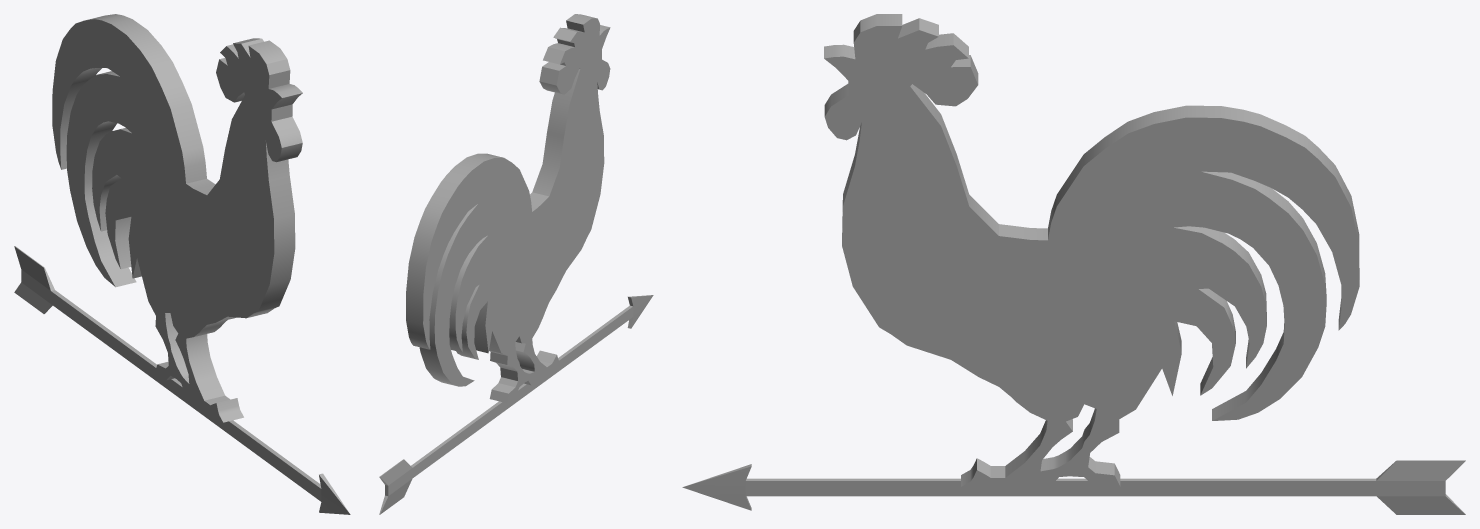
The model's file is gallo.obj.
3 renders of one model, left to right at view 1: azimuth 30°, elevation 25°; view 2: azimuth 150°, elevation 25°; view 3: azimuth 270°, elevation 25°, orthographic. The views are drawn at different scales.
Parts seen in each view (by area): view 1: gallo1:polySurface996; view 2: gallo1:polySurface996; view 3: gallo1:polySurface996.
Part boxes in pixels (x1,y1,x2,y2): gallo1:polySurface996: (14, 14, 350, 514); gallo1:polySurface996: (379, 14, 653, 514); gallo1:polySurface996: (682, 14, 1465, 514).
Size of the model in its own units: 0.064 by 1.24 by 1.77.
1 material, 1 textured.
